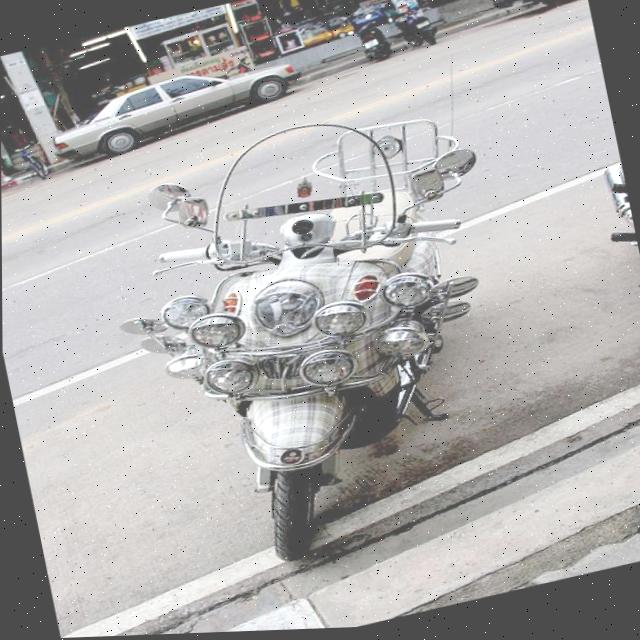car: (30, 31, 299, 172)
motorcycle: (87, 72, 567, 603), (388, 0, 447, 58), (354, 25, 393, 67)
